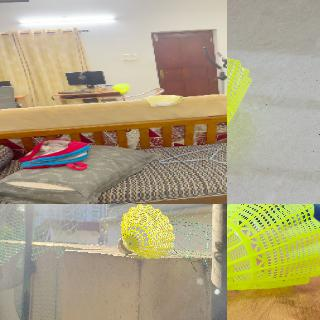shuttlecock: (227, 204, 319, 315), (227, 50, 252, 183), (118, 204, 174, 258), (112, 83, 130, 94)
